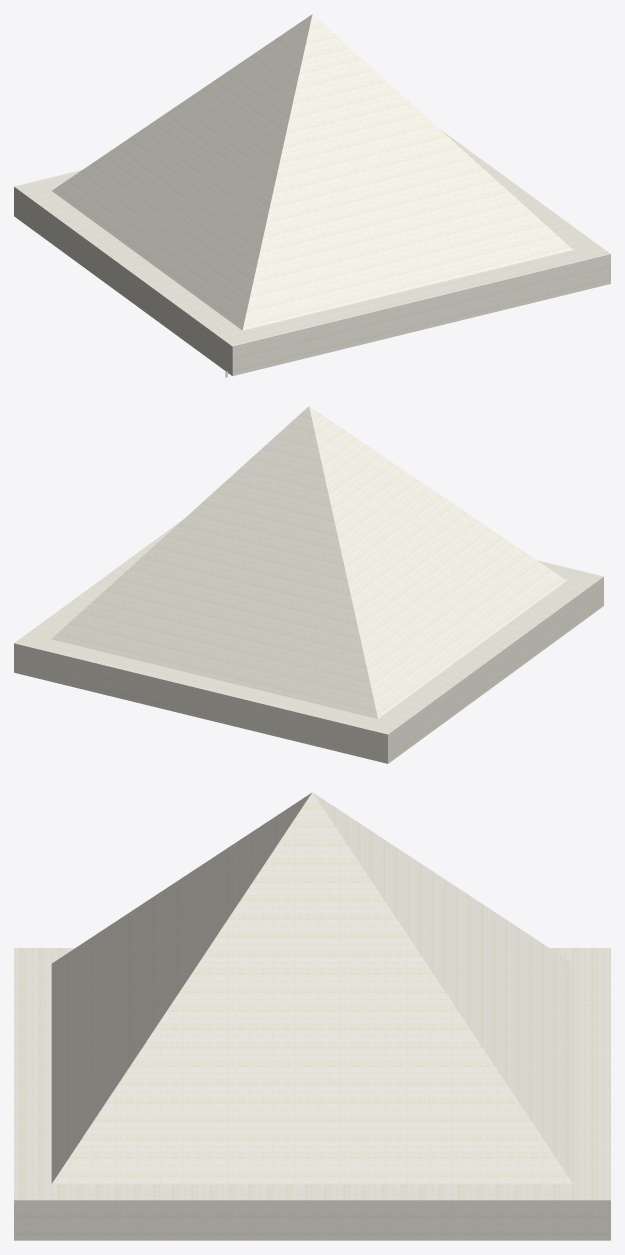
Rendered from SenwosretIII.glb.
3 renders of one model, top to bottom at view 1: azimuth 30°, elevation 25°; view 2: azimuth 150°, elevation 25°; view 3: azimuth 270°, elevation 25°, orthographic. The views are drawn at different scales.
Visible parts, largest first — view 1: Mesh1 Model; view 2: Mesh1 Model; view 3: Mesh1 Model.
Boxes of the visible parts, x1,y1,x2,y2 form: Mesh1 Model: [14, 14, 610, 376]; Mesh1 Model: [14, 406, 603, 763]; Mesh1 Model: [14, 792, 610, 1240].
Size of the model in its own units: 107 by 62.56 by 105.
Materials: 2 (2 with a texture image).
